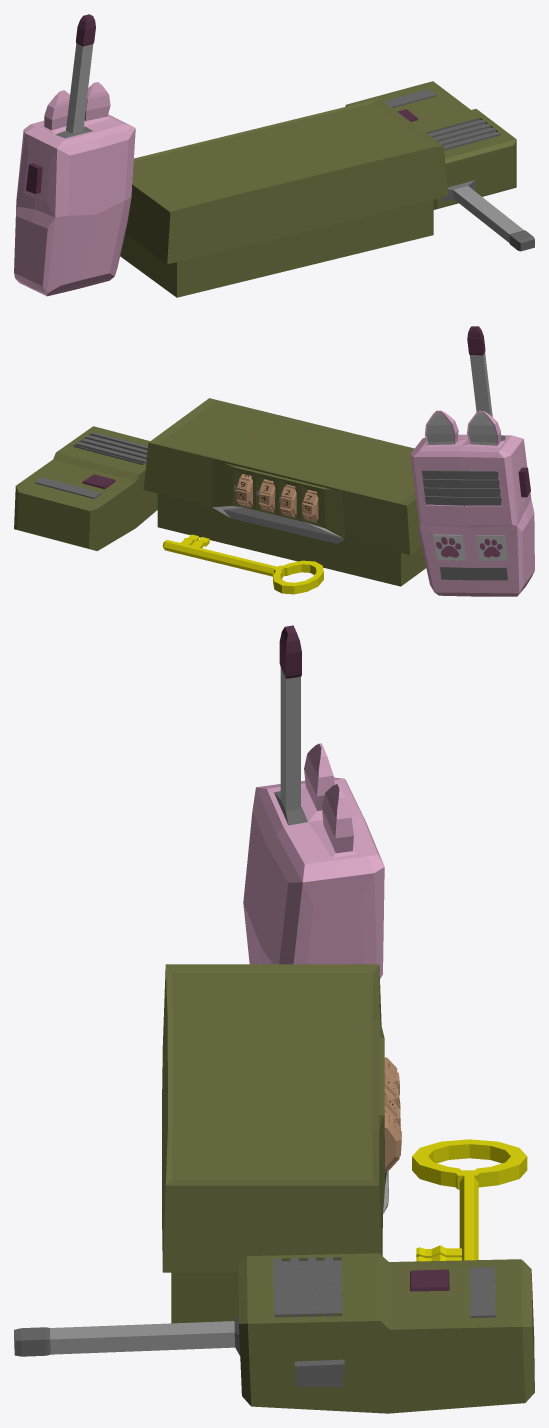
File: radiosandlockbox.glb
3 views of the same model, one above another, from view 1: azimuth 30°, elevation 25°; view 2: azimuth 150°, elevation 25°; view 3: azimuth 270°, elevation 25° (orthographic). The views are drawn at different scales.
Visible parts, largest first — view 1: cajatapa.001, radiokawai.002, cajafondo.001, radio.002; view 2: cajatapa.001, radiokawai.002, radio.002, cajafondo.001, Circle.003, rueda1.004, rueda1.006, rueda1.005, rueda1.007; view 3: cajatapa.001, radio.002, radiokawai.002, Circle.003, cajafondo.001.
Part boxes in pixels (box(x1,y1,x2,y2)): cajatapa.001: box(125, 99, 448, 264); radiokawai.002: box(14, 14, 135, 296); cajafondo.001: box(120, 199, 433, 297); radio.002: box(345, 81, 534, 251); cajatapa.001: box(143, 398, 421, 554); radiokawai.002: box(410, 326, 534, 596); radio.002: box(14, 426, 157, 551); cajafondo.001: box(157, 493, 426, 586); Circle.003: box(162, 534, 323, 594); rueda1.004: box(236, 474, 252, 507); rueda1.006: box(280, 484, 296, 517); rueda1.005: box(258, 479, 275, 512); rueda1.007: box(302, 490, 318, 522); cajatapa.001: box(162, 964, 388, 1272); radio.002: box(14, 1253, 534, 1413); radiokawai.002: box(243, 625, 384, 978); Circle.003: box(412, 1139, 527, 1261); cajafondo.001: box(171, 1272, 238, 1323).
Size of the model in its own units: 8.56 by 4.6 by 4.79.
Materials: 9 (1 with a texture image).
